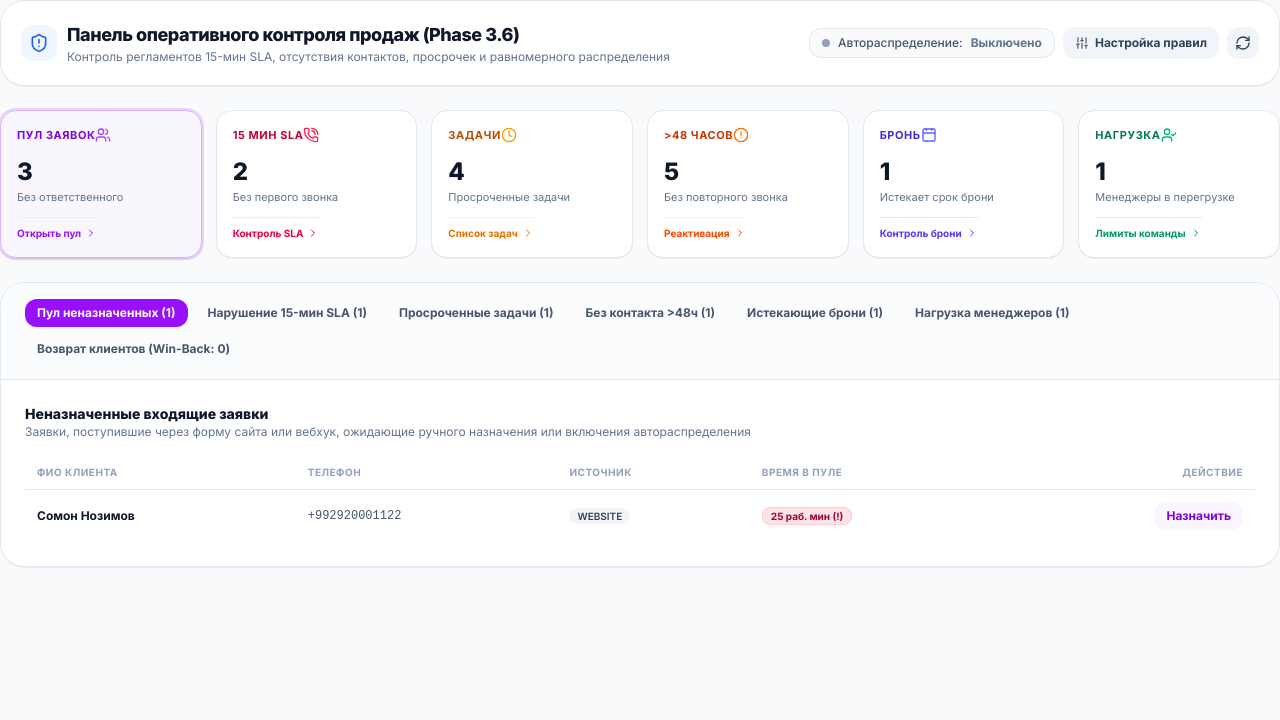
Scenario: TOZON CRM — SalesControlPanel (Phase 3.6 Frontend Component) › opens and interacts with distribution settings modal
The image size is (1280, 720).
Expected: the text "Настройка правил" is shown, [1095, 35, 1207, 51]
# Click on settings button
Click the button "Настройка правил".
click(1141, 43)  # box [1063, 27, 1219, 59]
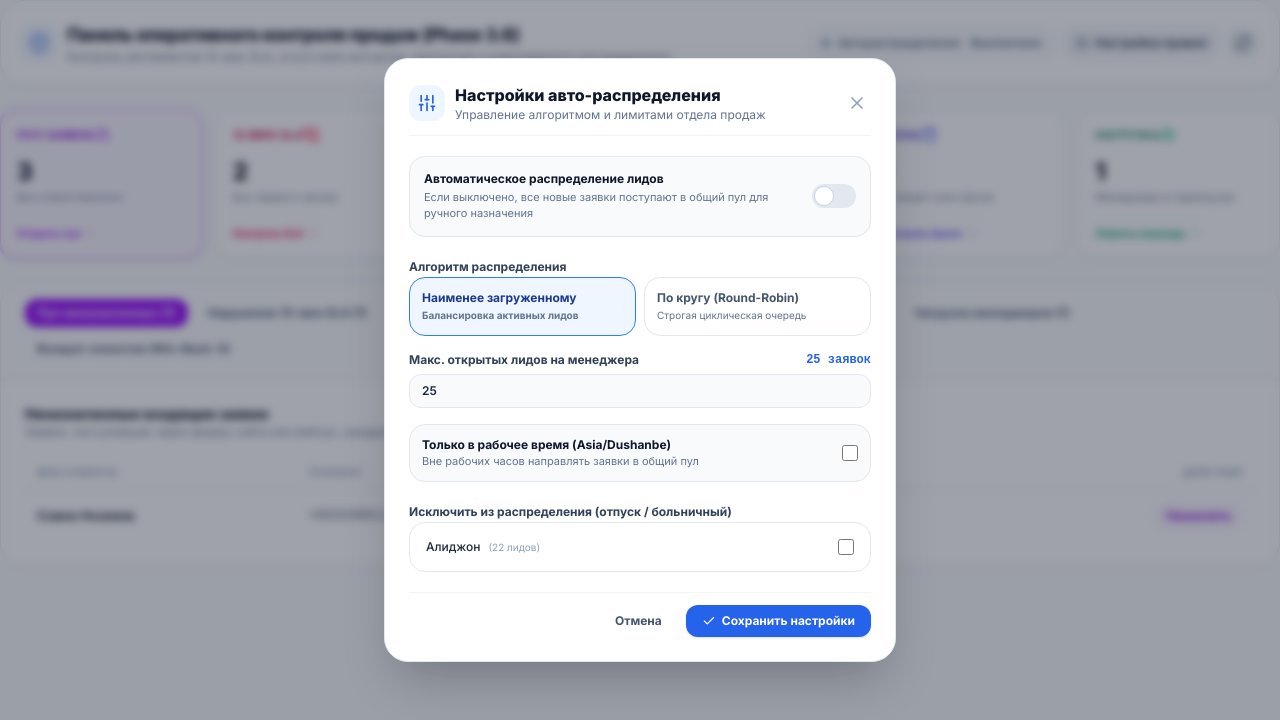
Expected: the heading "Настройки авто-распределения" is shown, [455, 83, 766, 107]
Expected: the text "Наименее загруженному" is shown, [422, 290, 576, 305]
Expected: the text "По кругу (Round-Robin)" is shown, [657, 290, 799, 305]
